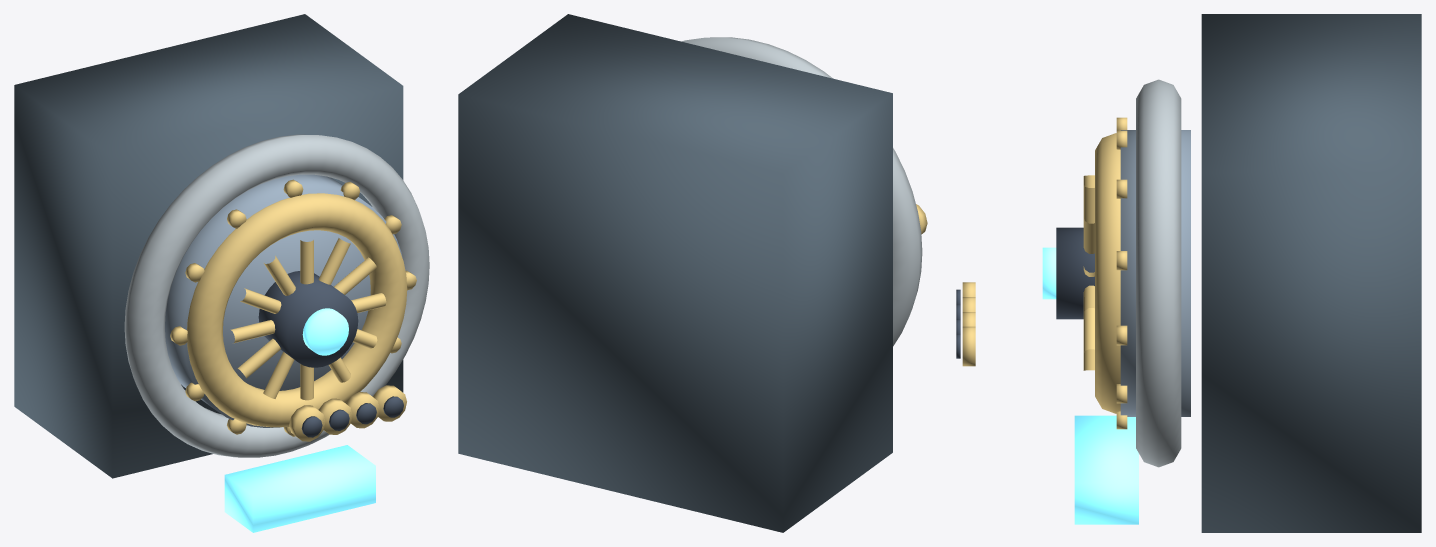
The model's file is 18_L84_ReactionWheelX.glb.
The picture shows the model from 3 angles, left to right: view 1: azimuth 30°, elevation 25°; view 2: azimuth 150°, elevation 25°; view 3: azimuth 270°, elevation 25°; orthographic projection. The views are drawn at different scales.
Visible parts, largest first — view 1: L84_ReactionWheelX, L84_ReactionWheelX_Part_0003, L84_ReactionWheelX_Part_0002, L84_ReactionWheelX_Part_0004, L84_ReactionWheelX_Part_0005, L84_ReactionWheelX_Part_0008, L84_ReactionWheelX_Part_0014, L84_ReactionWheelX_Part_0012, L84_ReactionWheelX_Part_0010; view 2: L84_ReactionWheelX; view 3: L84_ReactionWheelX, L84_ReactionWheelX_Part_0003, L84_ReactionWheelX_Part_0002, L84_ReactionWheelX_Part_0004, L84_ReactionWheelX_Part_0005, L84_ReactionWheelX_Part_0014.
Part boxes in pixels (bbox=[...]): L84_ReactionWheelX: bbox=[14, 14, 429, 532]; L84_ReactionWheelX_Part_0003: bbox=[187, 193, 407, 427]; L84_ReactionWheelX_Part_0002: bbox=[165, 174, 402, 427]; L84_ReactionWheelX_Part_0004: bbox=[258, 271, 358, 367]; L84_ReactionWheelX_Part_0005: bbox=[302, 308, 348, 355]; L84_ReactionWheelX_Part_0008: bbox=[289, 405, 325, 441]; L84_ReactionWheelX_Part_0014: bbox=[373, 385, 406, 421]; L84_ReactionWheelX_Part_0012: bbox=[345, 392, 379, 428]; L84_ReactionWheelX_Part_0010: bbox=[318, 398, 352, 434]; L84_ReactionWheelX: bbox=[458, 14, 922, 532]; L84_ReactionWheelX: bbox=[1074, 14, 1421, 532]; L84_ReactionWheelX_Part_0003: bbox=[1083, 133, 1120, 413]; L84_ReactionWheelX_Part_0002: bbox=[1120, 130, 1190, 416]; L84_ReactionWheelX_Part_0004: bbox=[1056, 227, 1094, 319]; L84_ReactionWheelX_Part_0005: bbox=[1042, 247, 1056, 299]; L84_ReactionWheelX_Part_0014: bbox=[962, 326, 975, 366].
Bounding box in the file's own units: 1.27 × 1.43 × 1.52.
